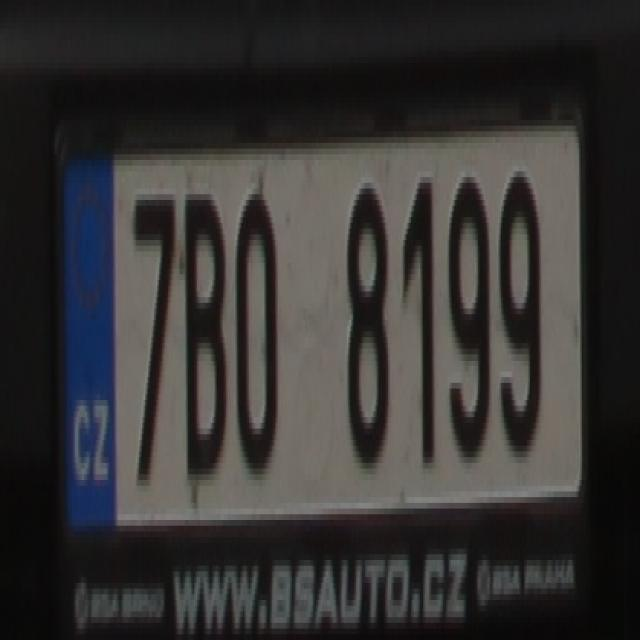0: (233, 188, 280, 486)
1: (402, 171, 438, 480)
7: (126, 188, 176, 486)
8: (341, 177, 385, 474)
9: (446, 171, 495, 463), (497, 160, 542, 451)
B: (183, 188, 229, 486)
